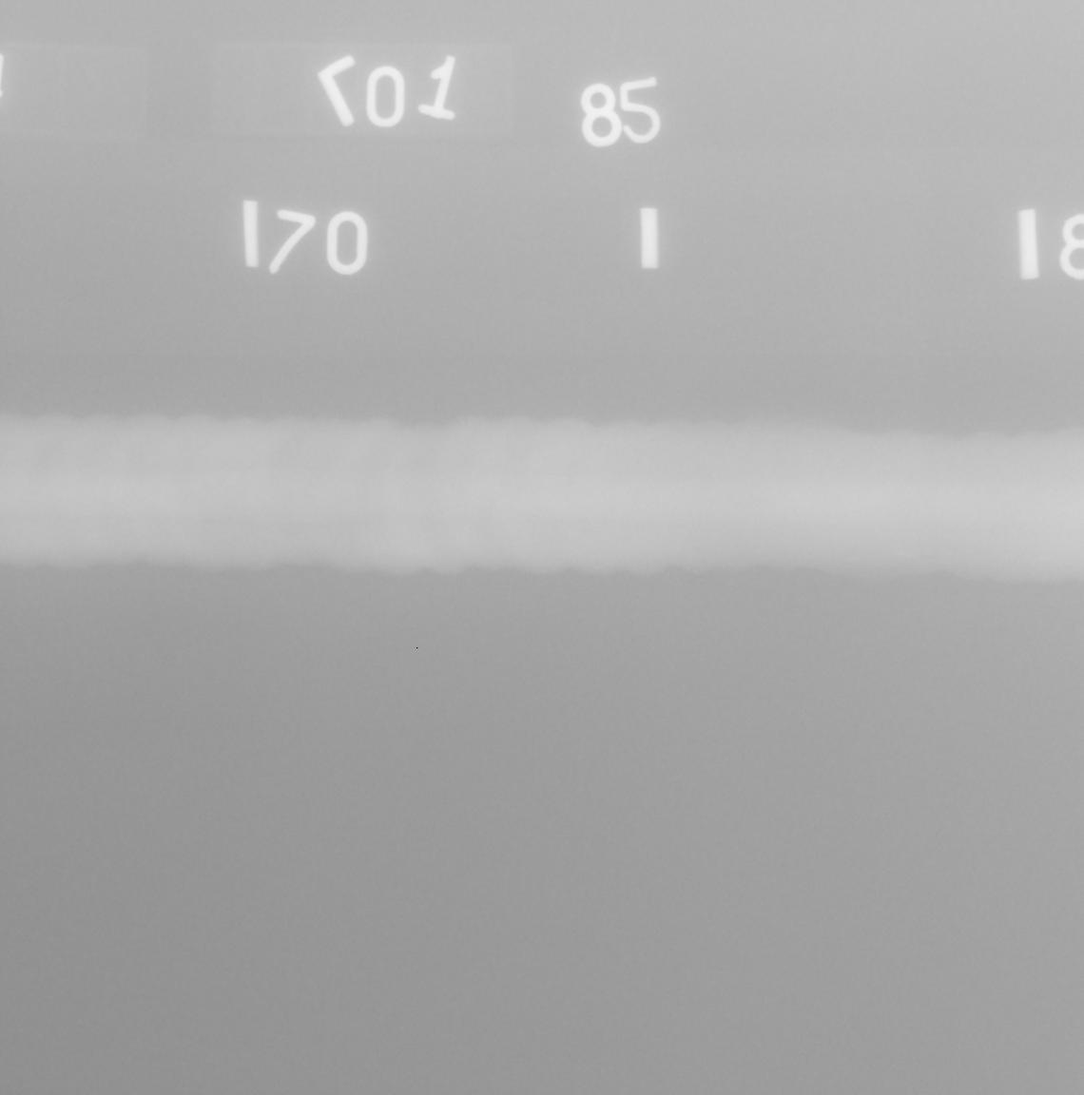Inclusion: (924, 555, 938, 560)
